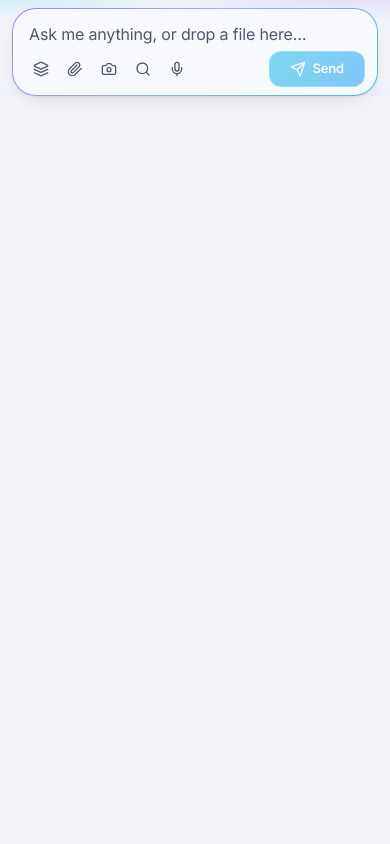
it: workspace buttons in the chat box › the sheet says Notes, Journal, Word, Fill In, and lists the person's own modes
This screenshot has width=390, height=844.
Later steps or results of the test are not shown.
What coordinates should you click on to do the following:
click the button with test id "button-chat-modes"
I would click on:
 (41, 69)
Its box is [25,53,57,85].
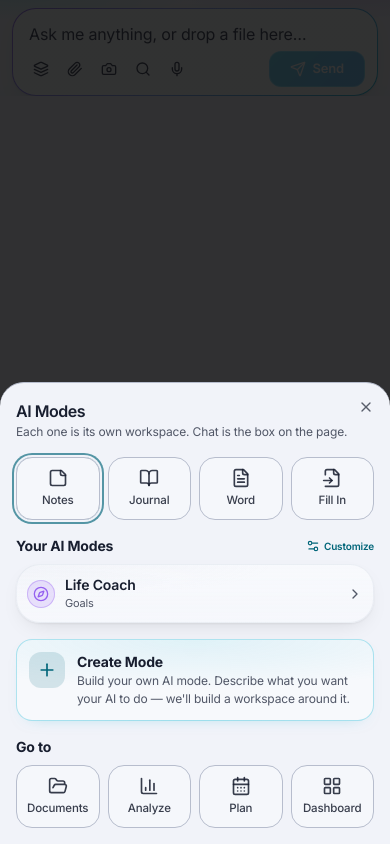
Check: the dialog with test id "modes-sheet" is shown, box [0,382,389,843]
